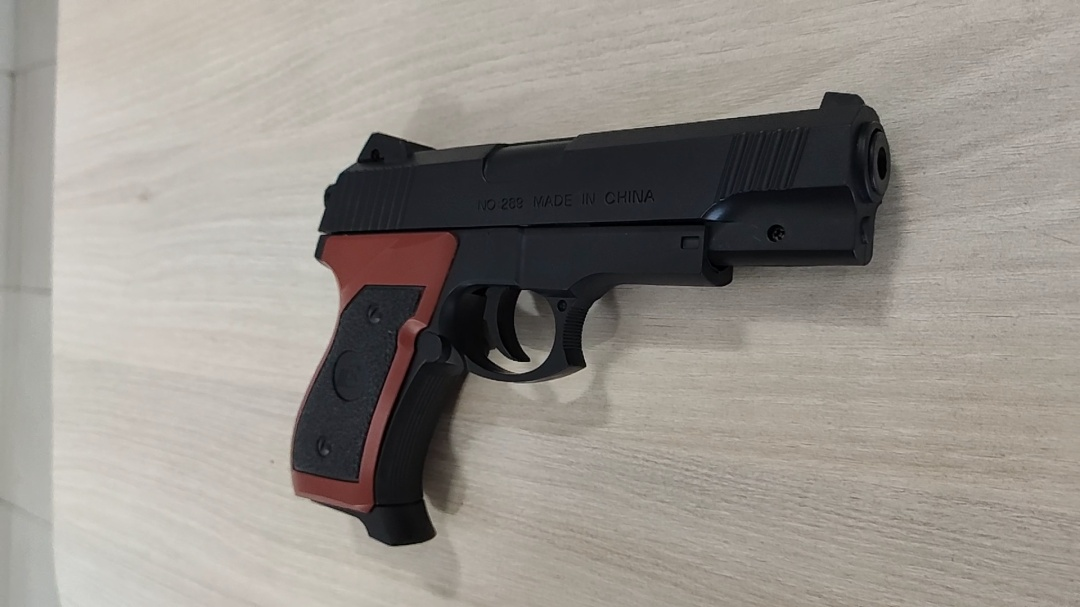gun: (491, 423, 521, 506)
